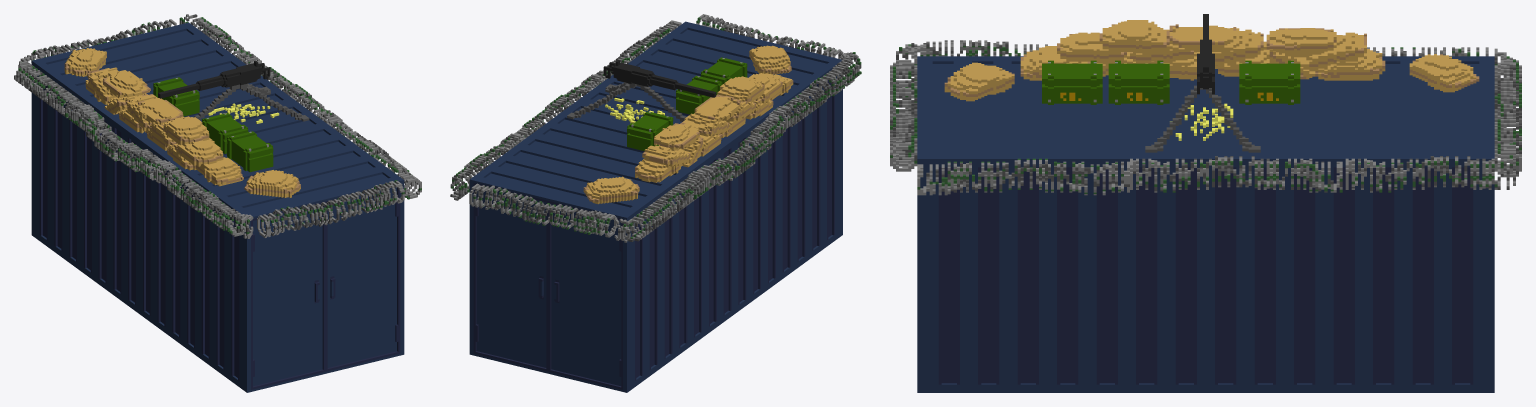
The model's file is mitrailleuse_v2_turret.vox.obj.
3 renders of one model, left to right at view 1: azimuth 30°, elevation 25°; view 2: azimuth 150°, elevation 25°; view 3: azimuth 270°, elevation 25°, orthographic. The views are drawn at different scales.
Bounding box in the file's own units: 10.1 × 10.9 × 20.8.
Materials: 1 (1 with a texture image).
